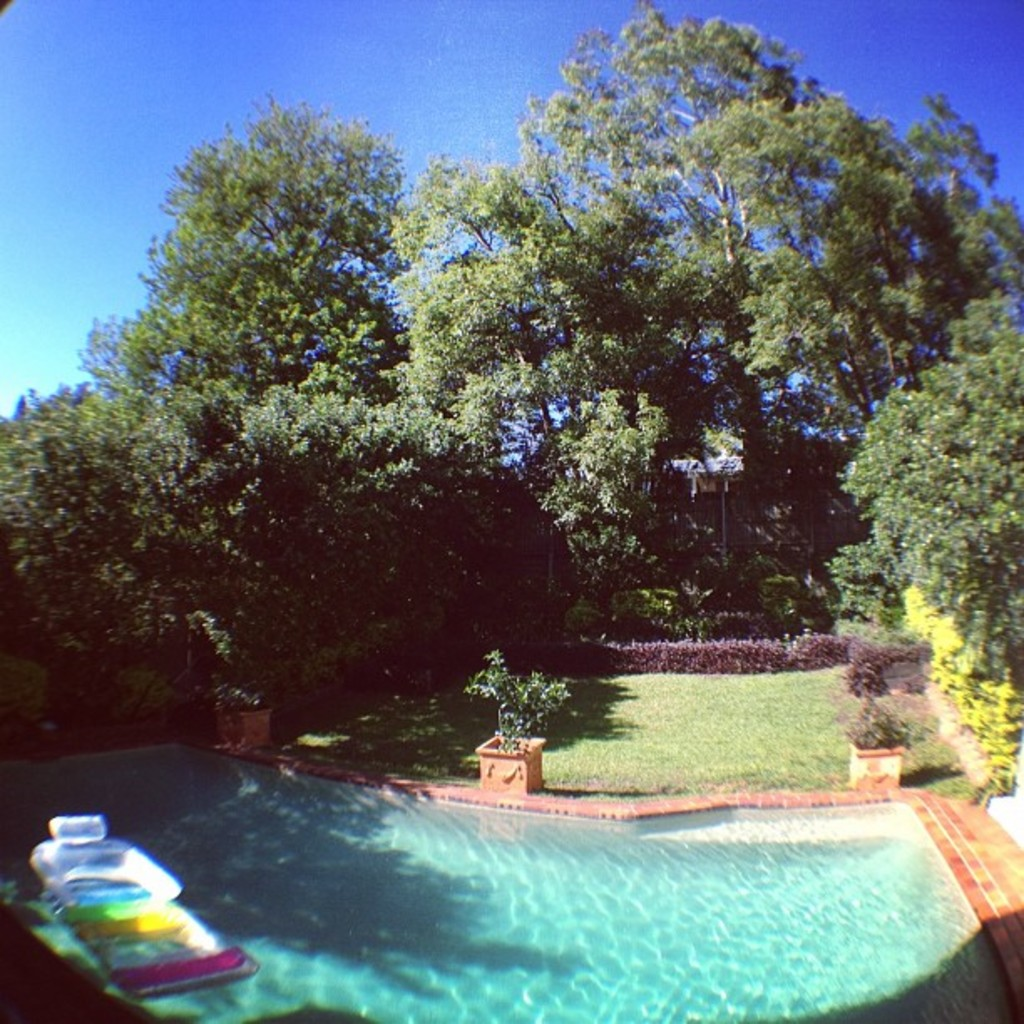Tree: (0, 95, 1022, 716)
